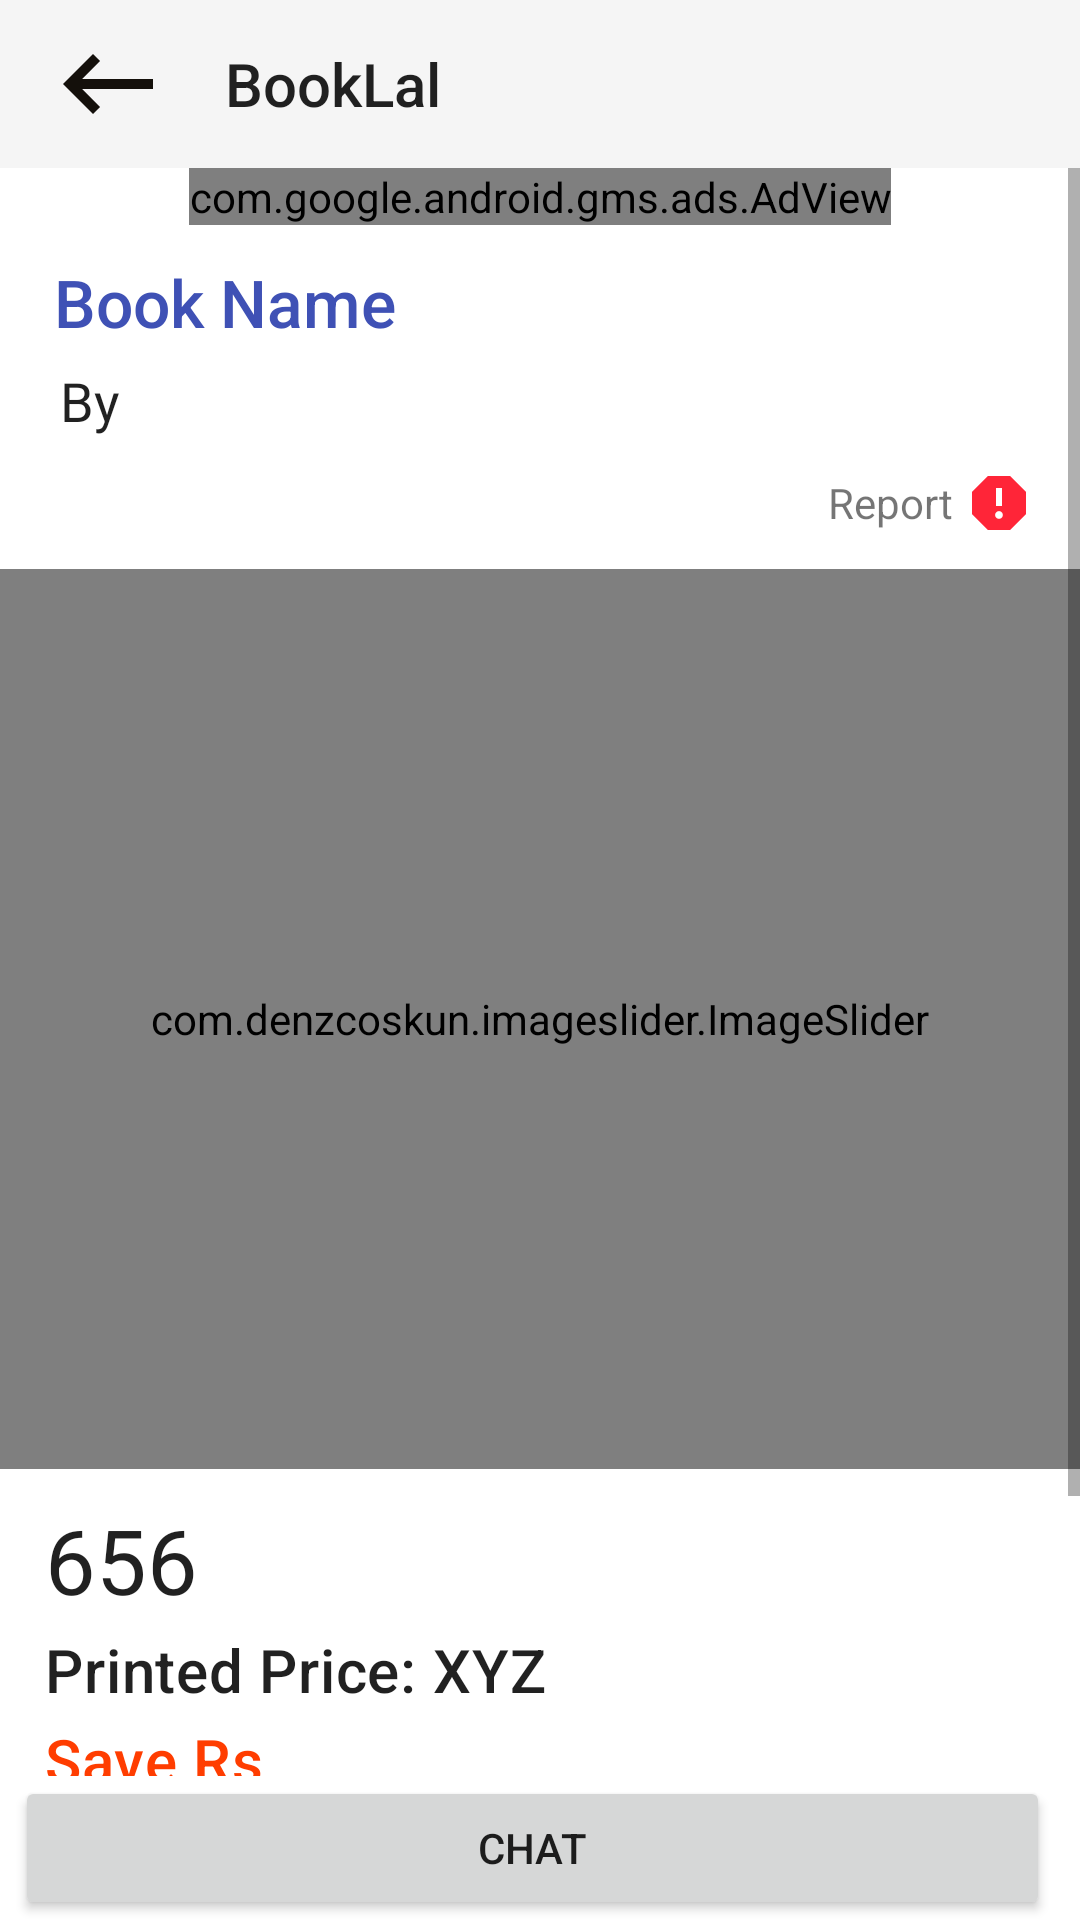

Locate icon controls on the screen. Image size 1080*1920, boxes as rect(x1, y1, x2, y2).
long back arrow: rect(63, 54, 153, 114)
